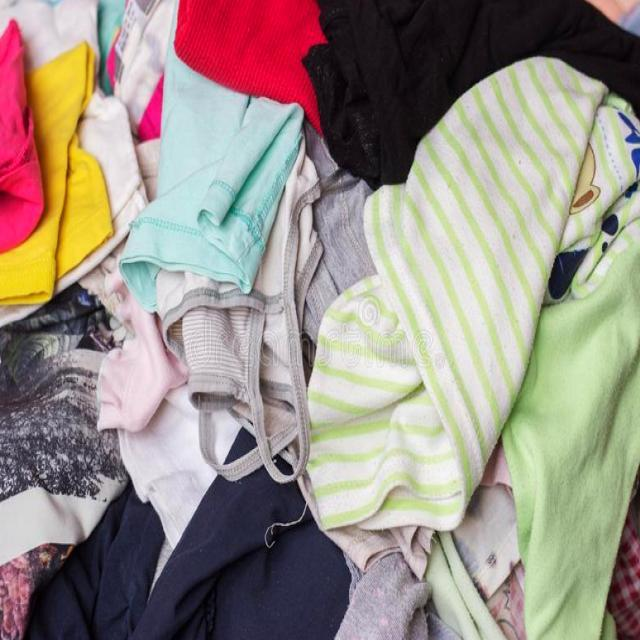clothes: (24, 24, 596, 592)
